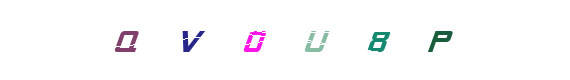0: (214, 0, 294, 80)
8: (272, 0, 352, 80)
P: (368, 0, 448, 80)
Q: (89, 0, 169, 80)
U: (245, 0, 325, 80)
V: (150, 0, 230, 80)
